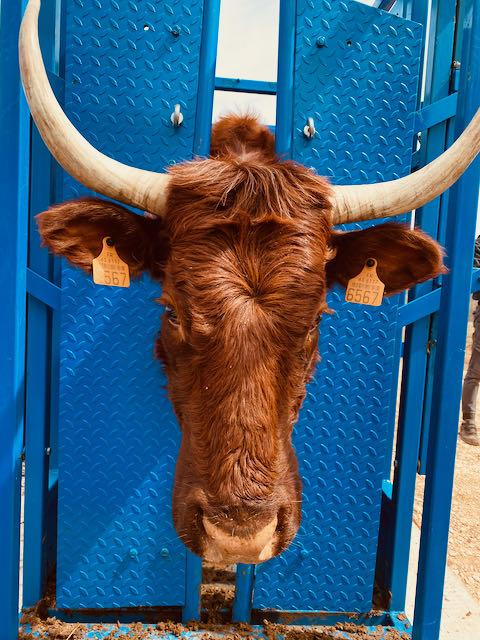muzzles: (167, 491, 314, 569)
